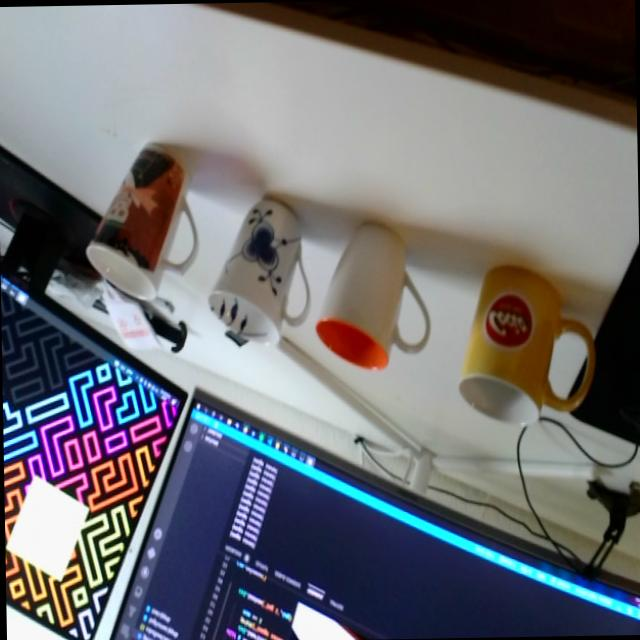Cocio Cup: (456, 259, 594, 425)
Halloween cup: (84, 140, 198, 302)
Hand painted cup: (202, 192, 310, 346)
White Cup: (305, 220, 430, 374)
